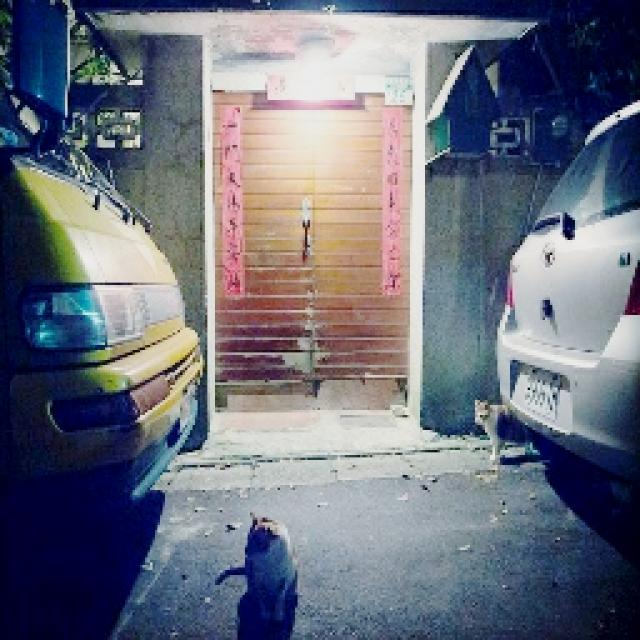cat: (221, 508, 311, 626)
